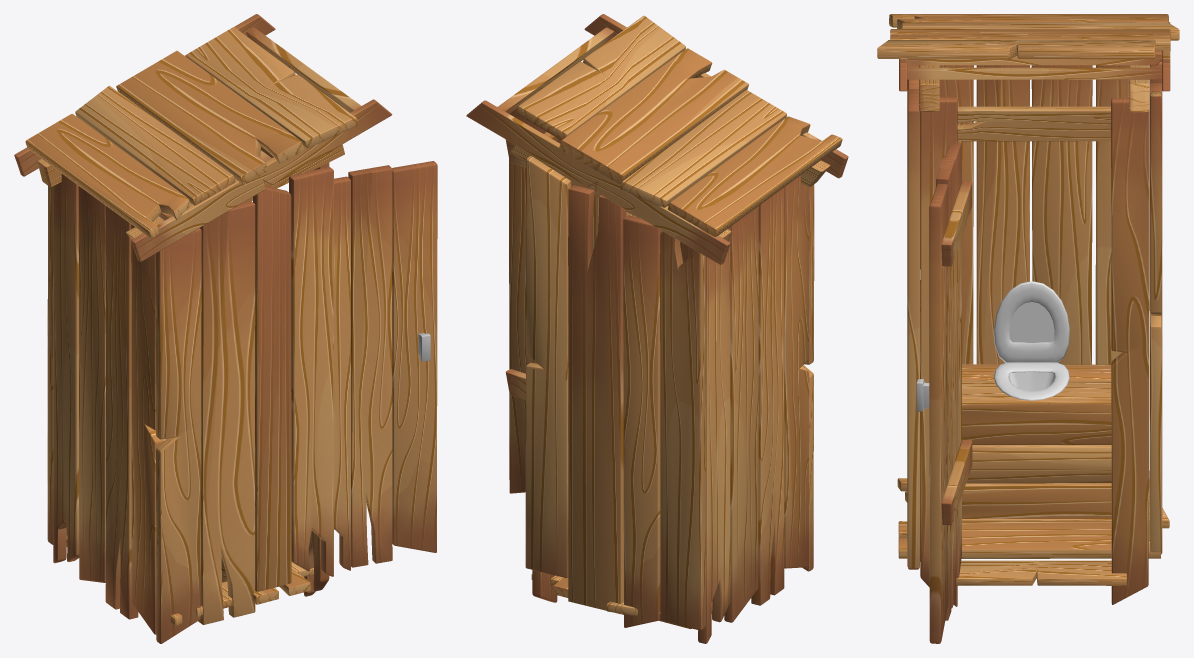
File: outhouse 1.fbx
The picture shows the model from 3 angles, left to right: view 1: azimuth 30°, elevation 25°; view 2: azimuth 150°, elevation 25°; view 3: azimuth 270°, elevation 25°; orthographic projection. The views are drawn at different scales.
Visible parts, largest first — view 1: Cube.044, Cube.062; view 2: Cube.044, Cube.062; view 3: Cube.044, Cube.062, Cube.001.
Boxes of the visible parts, x1,y1,x2,y2 form: Cube.044: (14, 14, 392, 643); Cube.062: (334, 161, 437, 570); Cube.044: (466, 14, 848, 643); Cube.062: (505, 108, 599, 493); Cube.044: (877, 14, 1179, 606); Cube.062: (916, 142, 972, 643); Cube.001: (994, 281, 1069, 400).
Size of the model in its own units: 326 by 492 by 238.
